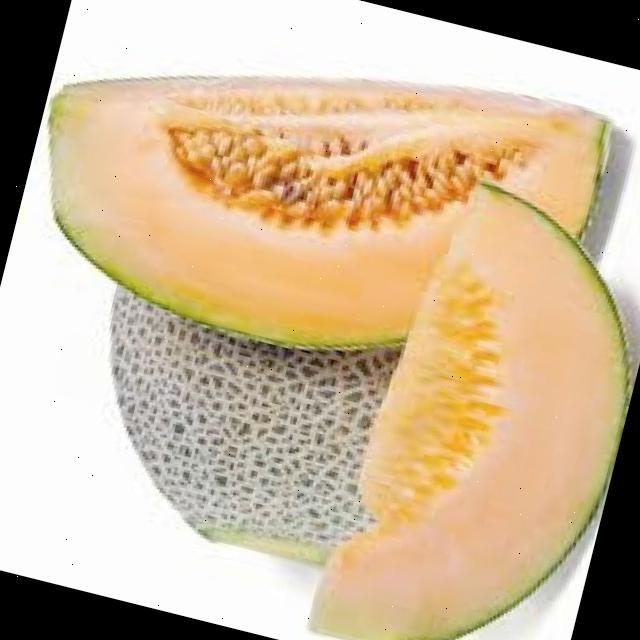Hami Melon: (3, 0, 617, 413), (298, 165, 640, 640)
